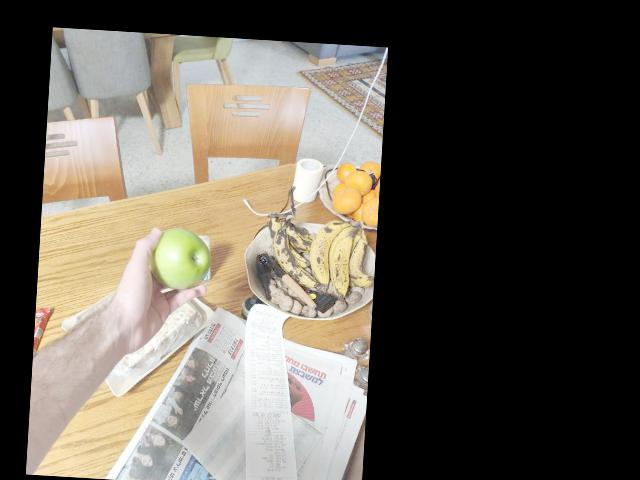apple: (144, 223, 207, 295)
